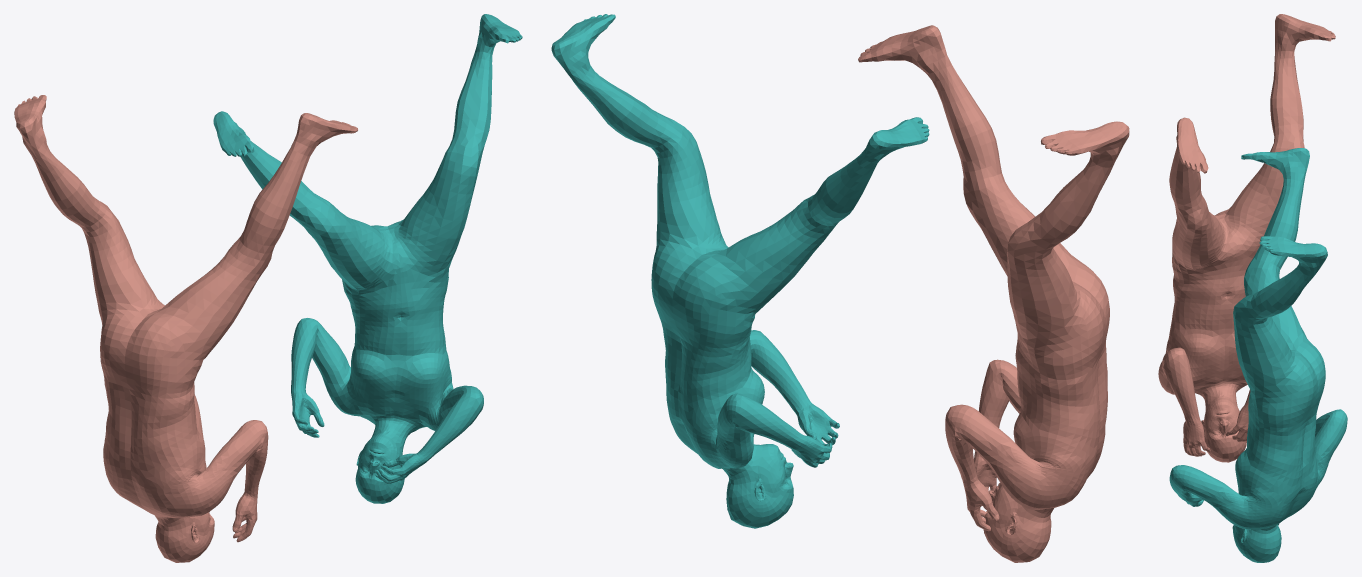
The model's file is all_people_native_world.glb.
3 views of the same model, side by side, from view 1: azimuth 30°, elevation 25°; view 2: azimuth 150°, elevation 25°; view 3: azimuth 270°, elevation 25° (orthographic). The views are drawn at different scales.
Visible parts, largest first — view 1: persistent_id_0_slot_1, persistent_id_1_slot_0; view 2: persistent_id_1_slot_0, persistent_id_0_slot_1; view 3: persistent_id_1_slot_0, persistent_id_0_slot_1.
Part boxes in pixels (x1,y1,x2,y2): persistent_id_0_slot_1: (14, 95, 357, 562); persistent_id_1_slot_0: (213, 14, 522, 503); persistent_id_1_slot_0: (551, 14, 929, 528); persistent_id_0_slot_1: (858, 25, 1129, 562); persistent_id_1_slot_0: (1169, 148, 1347, 562); persistent_id_0_slot_1: (1158, 14, 1335, 462).
Bounding box in the file's own units: 1.9 × 1.66 × 0.709.
